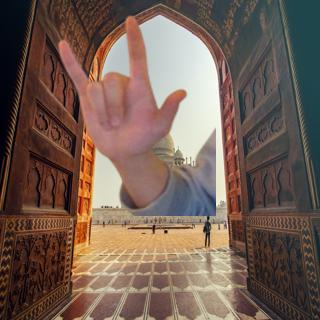ILY: (53, 11, 191, 161)
